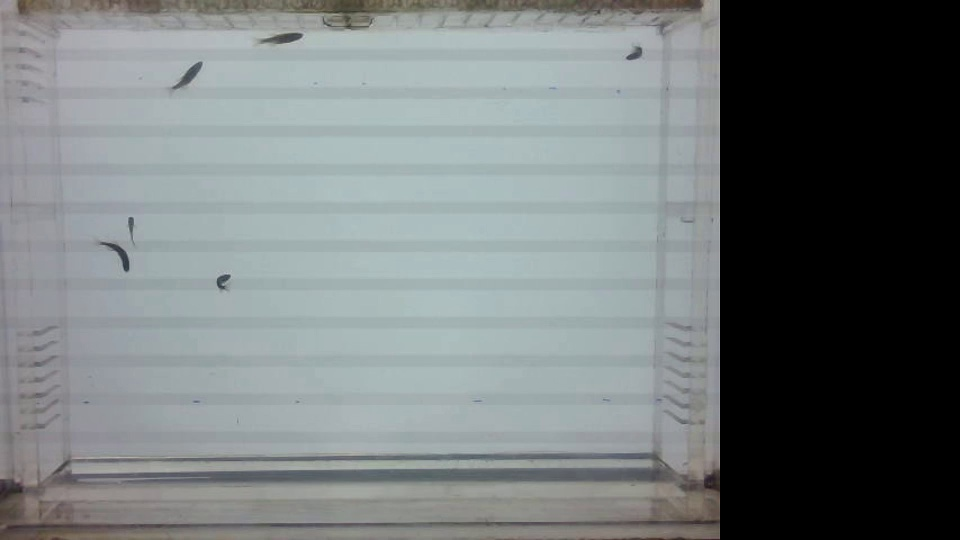fish: (162, 58, 206, 96), (96, 240, 133, 273), (252, 32, 308, 53), (204, 268, 237, 300), (121, 216, 144, 241), (617, 44, 648, 60)
